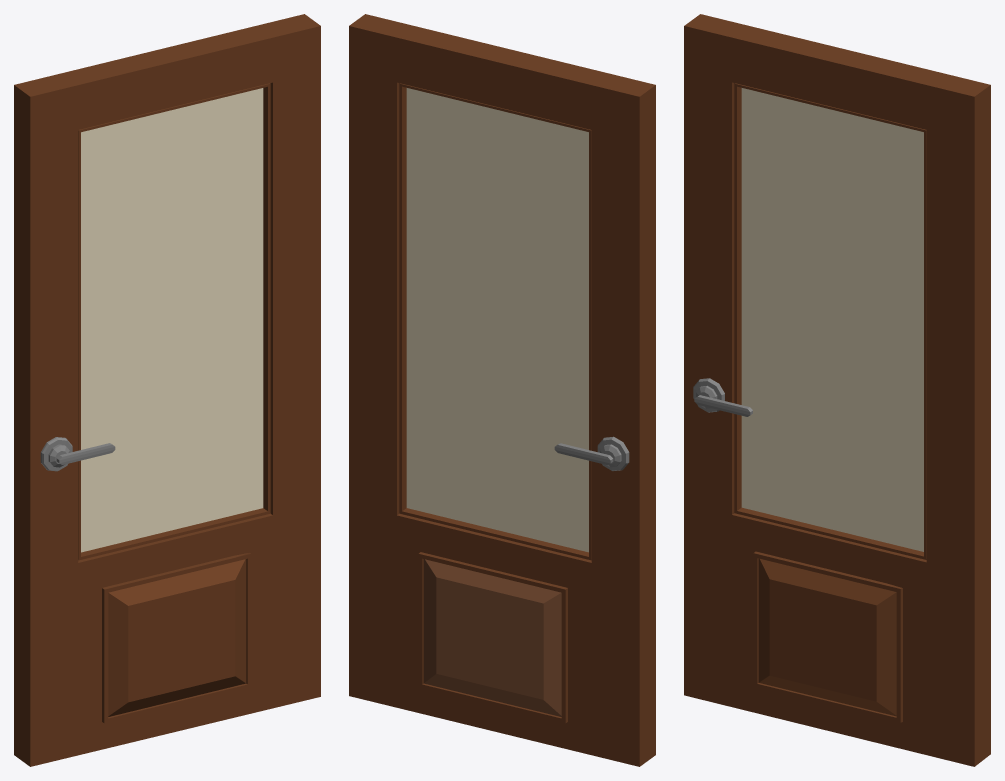
The model's file is DoorEscenario3.fbx.
The picture shows the model from 3 angles, left to right: view 1: azimuth 30°, elevation 25°; view 2: azimuth 150°, elevation 25°; view 3: azimuth 330°, elevation 25°; orthographic projection.
Visible parts, largest first — view 1: SecondDoor; view 2: SecondDoor; view 3: SecondDoor.
Boxes of the visible parts, bbox=[...] form: SecondDoor: bbox=[14, 14, 320, 766]; SecondDoor: bbox=[349, 14, 655, 766]; SecondDoor: bbox=[684, 14, 990, 766].
Bounding box in the file's own units: 92.6 × 204 × 19.32.
